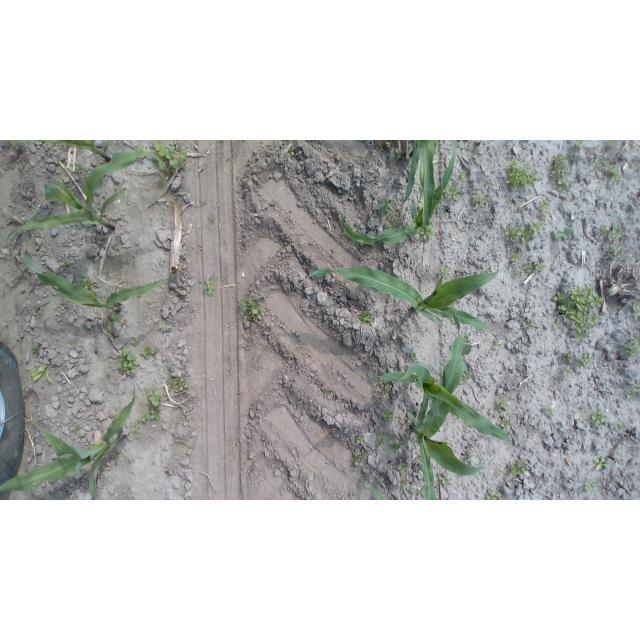Maize: (410, 304, 497, 500), (0, 383, 136, 498), (4, 149, 170, 243), (297, 266, 499, 343), (25, 233, 164, 323), (338, 142, 457, 245), (367, 365, 510, 443), (403, 140, 436, 232), (10, 141, 111, 162), (362, 485, 386, 499)
Weeds: (553, 285, 604, 344), (505, 158, 537, 190), (505, 221, 544, 247), (155, 140, 188, 168), (239, 294, 271, 322), (597, 157, 623, 187), (552, 153, 571, 191), (116, 346, 140, 374), (147, 386, 164, 421), (518, 260, 547, 276), (30, 365, 52, 384), (510, 458, 527, 478), (589, 409, 607, 427), (554, 227, 575, 242), (625, 334, 640, 355), (577, 352, 596, 368), (391, 433, 408, 450), (203, 274, 215, 298), (166, 363, 175, 394), (419, 226, 435, 243), (381, 196, 396, 214), (139, 345, 157, 359), (538, 200, 552, 216), (608, 224, 622, 240), (352, 451, 365, 468), (352, 433, 367, 447), (629, 299, 640, 318), (605, 245, 623, 256), (386, 211, 397, 229), (594, 457, 608, 471), (359, 310, 372, 325), (584, 476, 596, 492), (410, 486, 426, 498), (175, 377, 186, 394), (160, 319, 175, 331), (30, 342, 41, 358), (486, 489, 502, 500), (131, 422, 141, 439), (58, 259, 71, 272), (524, 318, 537, 331), (374, 435, 387, 448), (135, 411, 149, 423), (82, 277, 95, 289), (381, 409, 392, 423), (497, 397, 509, 409), (546, 402, 556, 416), (406, 411, 416, 425), (475, 196, 486, 208), (450, 189, 461, 201), (562, 352, 574, 363), (610, 442, 621, 454), (501, 417, 510, 431), (443, 185, 454, 196), (563, 367, 574, 378), (615, 421, 626, 432), (110, 451, 118, 466), (398, 461, 409, 471), (208, 212, 217, 224), (438, 266, 450, 275), (76, 165, 85, 176), (626, 391, 637, 400), (600, 222, 606, 238), (457, 169, 466, 179), (395, 148, 403, 159), (465, 452, 474, 461), (398, 481, 407, 490), (348, 489, 357, 498), (512, 253, 522, 261), (442, 476, 450, 486), (576, 140, 585, 148), (552, 322, 561, 330), (505, 198, 512, 207), (410, 351, 417, 360), (465, 333, 472, 342), (66, 339, 76, 345), (607, 141, 617, 147), (379, 378, 385, 388), (130, 339, 138, 346), (130, 256, 137, 264), (323, 389, 330, 397), (72, 426, 78, 435), (355, 222, 361, 230), (494, 343, 502, 349), (385, 384, 392, 390), (464, 373, 471, 379), (498, 469, 504, 475), (299, 397, 305, 403), (483, 268, 490, 273), (363, 156, 370, 161), (290, 149, 295, 156), (349, 445, 353, 448), (613, 257, 616, 260)
